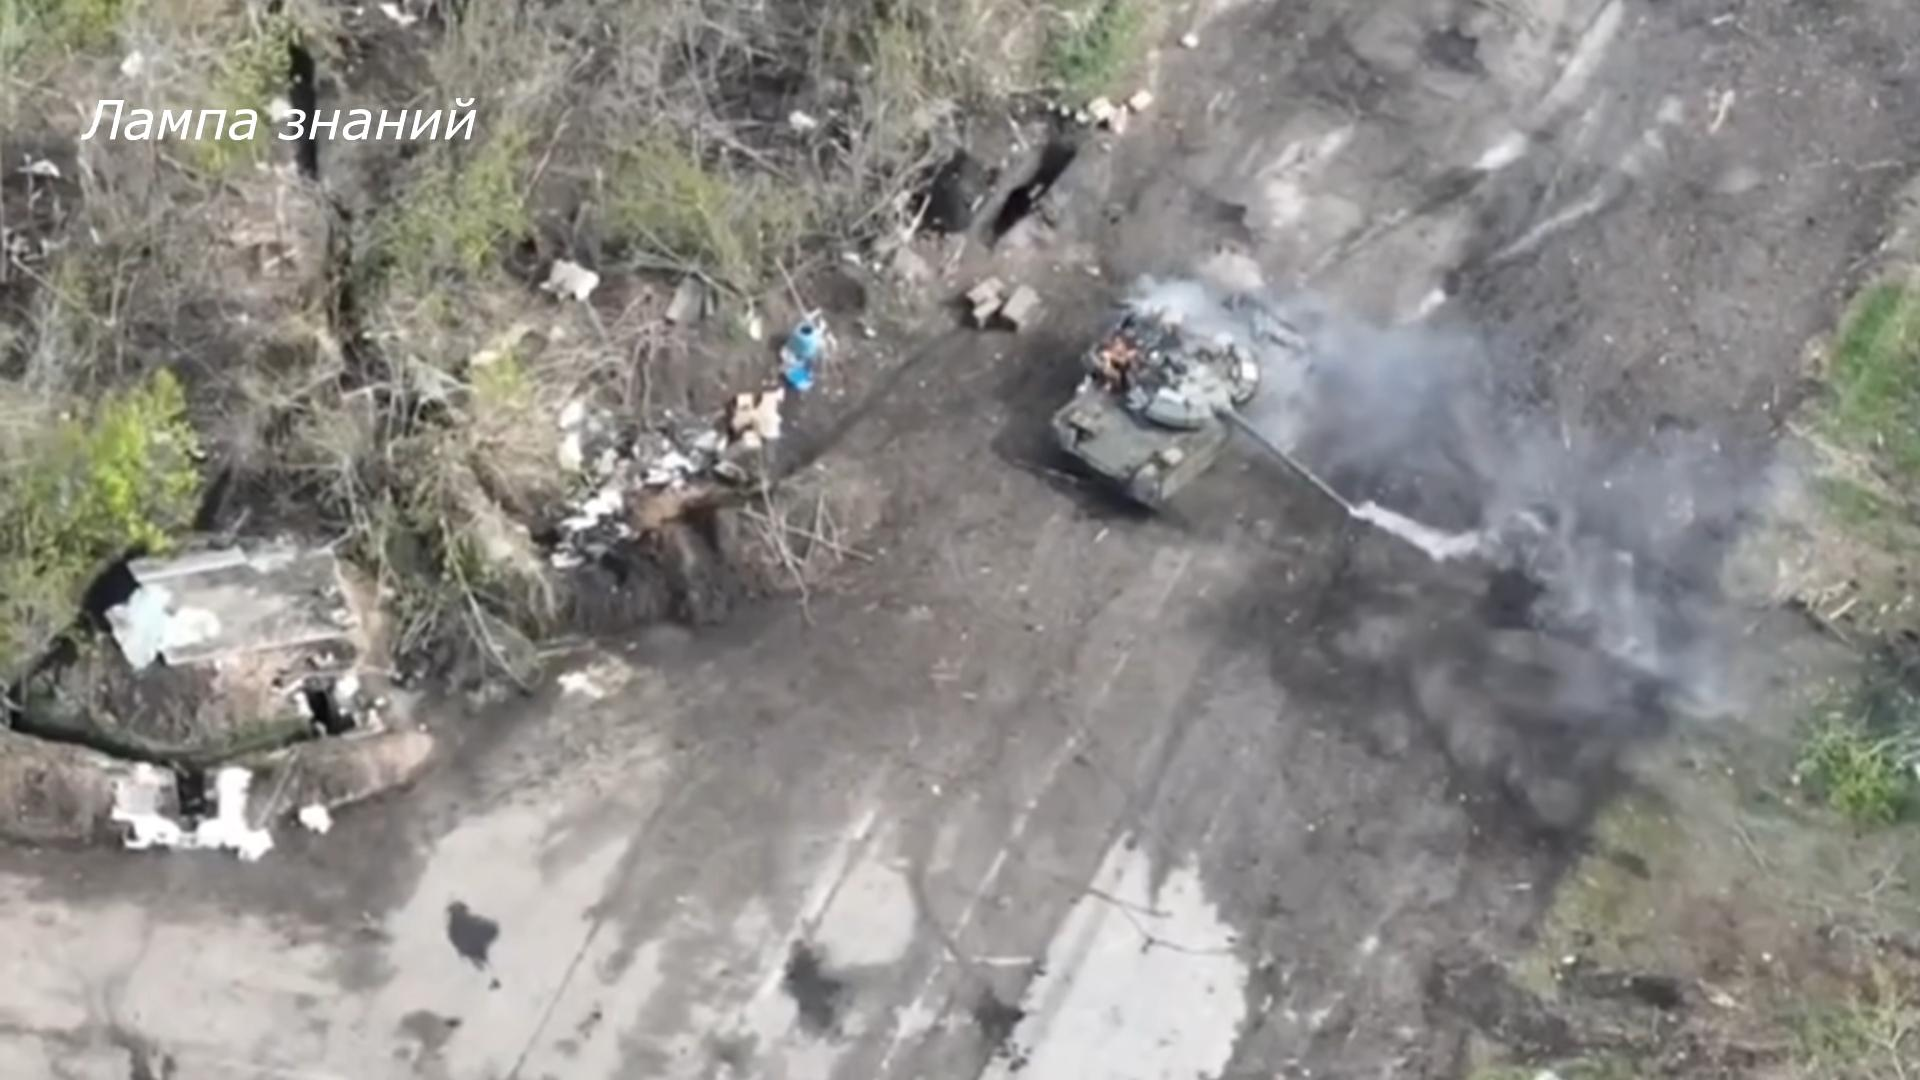tank: (1054, 301, 1353, 508)
